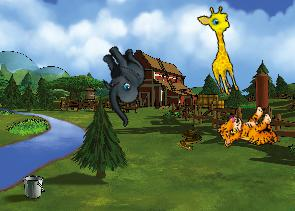elephant: (79, 38, 166, 127)
giraffe: (195, 3, 250, 98)
tiger: (214, 99, 283, 164)
